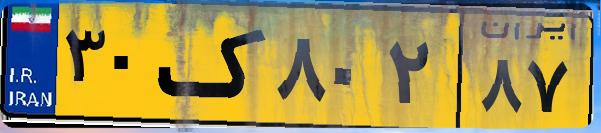0: (330, 28, 385, 110), (110, 28, 158, 98)
2: (385, 28, 445, 110)
3: (57, 26, 110, 100)
7: (525, 38, 570, 115)
8: (270, 28, 330, 110), (475, 38, 525, 113)
ک: (158, 12, 270, 120)
